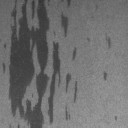red iron: (2, 0, 72, 128), (61, 11, 68, 37), (74, 82, 78, 102), (105, 34, 110, 48), (72, 46, 77, 60), (66, 108, 71, 121), (66, 0, 70, 7), (104, 72, 107, 80), (114, 116, 117, 120)
